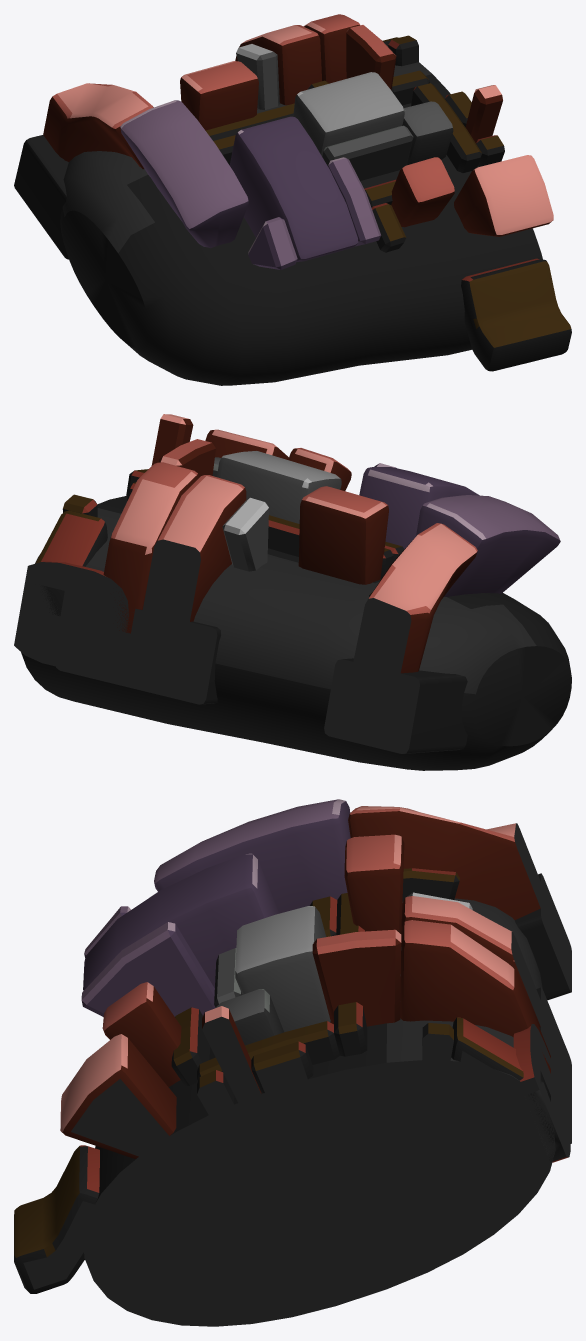
Rendered from deli_tower_39.glb.
The picture shows the model from 3 angles, top to bottom: view 1: azimuth 30°, elevation 25°; view 2: azimuth 150°, elevation 25°; view 3: azimuth 270°, elevation 25°; orthographic projection. The views are drawn at different scales.
Visible parts, largest first — view 1: deli_tower_39; view 2: deli_tower_39; view 3: deli_tower_39.
Part boxes in pixels (x1=…): deli_tower_39: x1=14, y1=14, x2=571, y2=385; deli_tower_39: x1=14, y1=414, x2=571, y2=770; deli_tower_39: x1=14, y1=799, x2=571, y2=1326.
Bounding box in the file's own units: 17 × 12.18 × 17.78.
